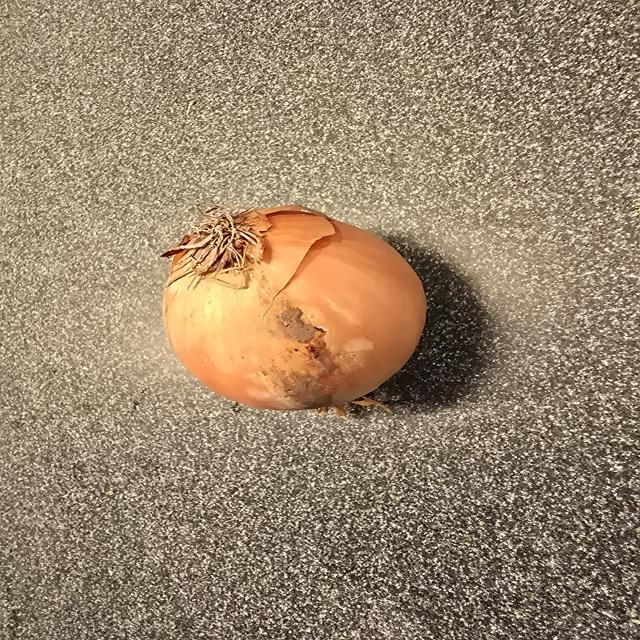Onion: (163, 206, 425, 414)
